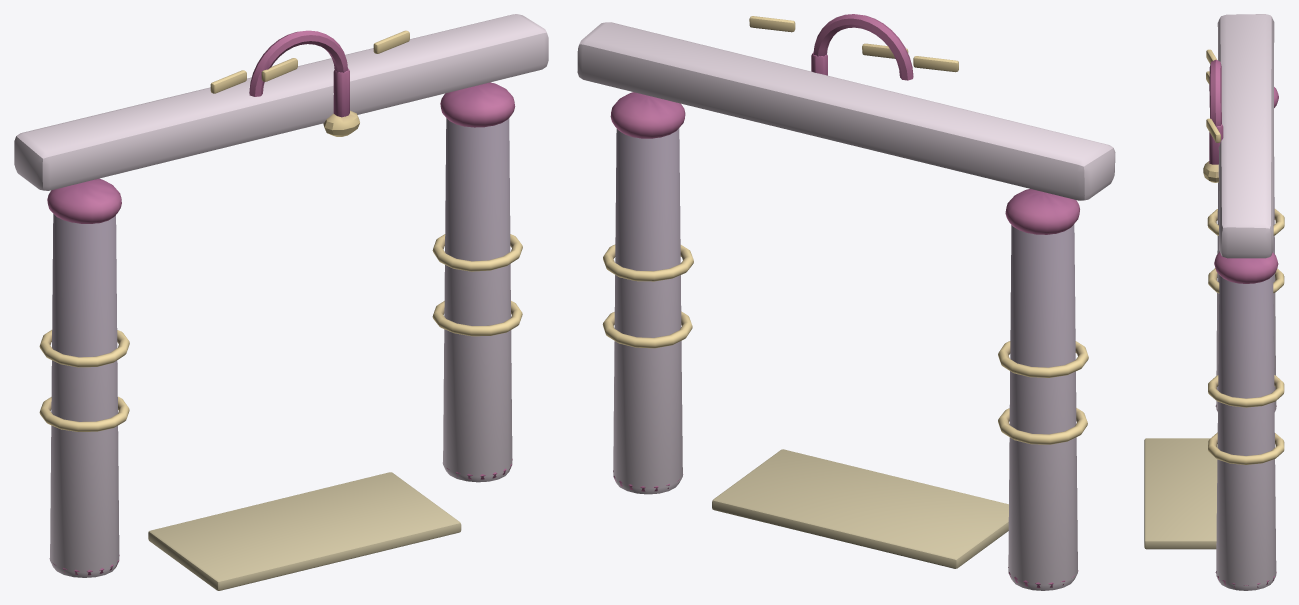
3 renders of one model, left to right at view 1: azimuth 30°, elevation 25°; view 2: azimuth 150°, elevation 25°; view 3: azimuth 270°, elevation 25°, orthographic. The views are drawn at different scales.
Parts seen in each view (by area): view 1: gate_e3b1ce45; view 2: gate_e3b1ce45; view 3: gate_e3b1ce45.
Boxes of the visible parts, left/top/right/bottom form: gate_e3b1ce45: left=14, top=14, right=548, bottom=590; gate_e3b1ce45: left=577, top=14, right=1115, bottom=590; gate_e3b1ce45: left=1144, top=14, right=1284, bottom=590.
Bounding box in the file's own units: 5.03 × 4.74 × 1.38.
